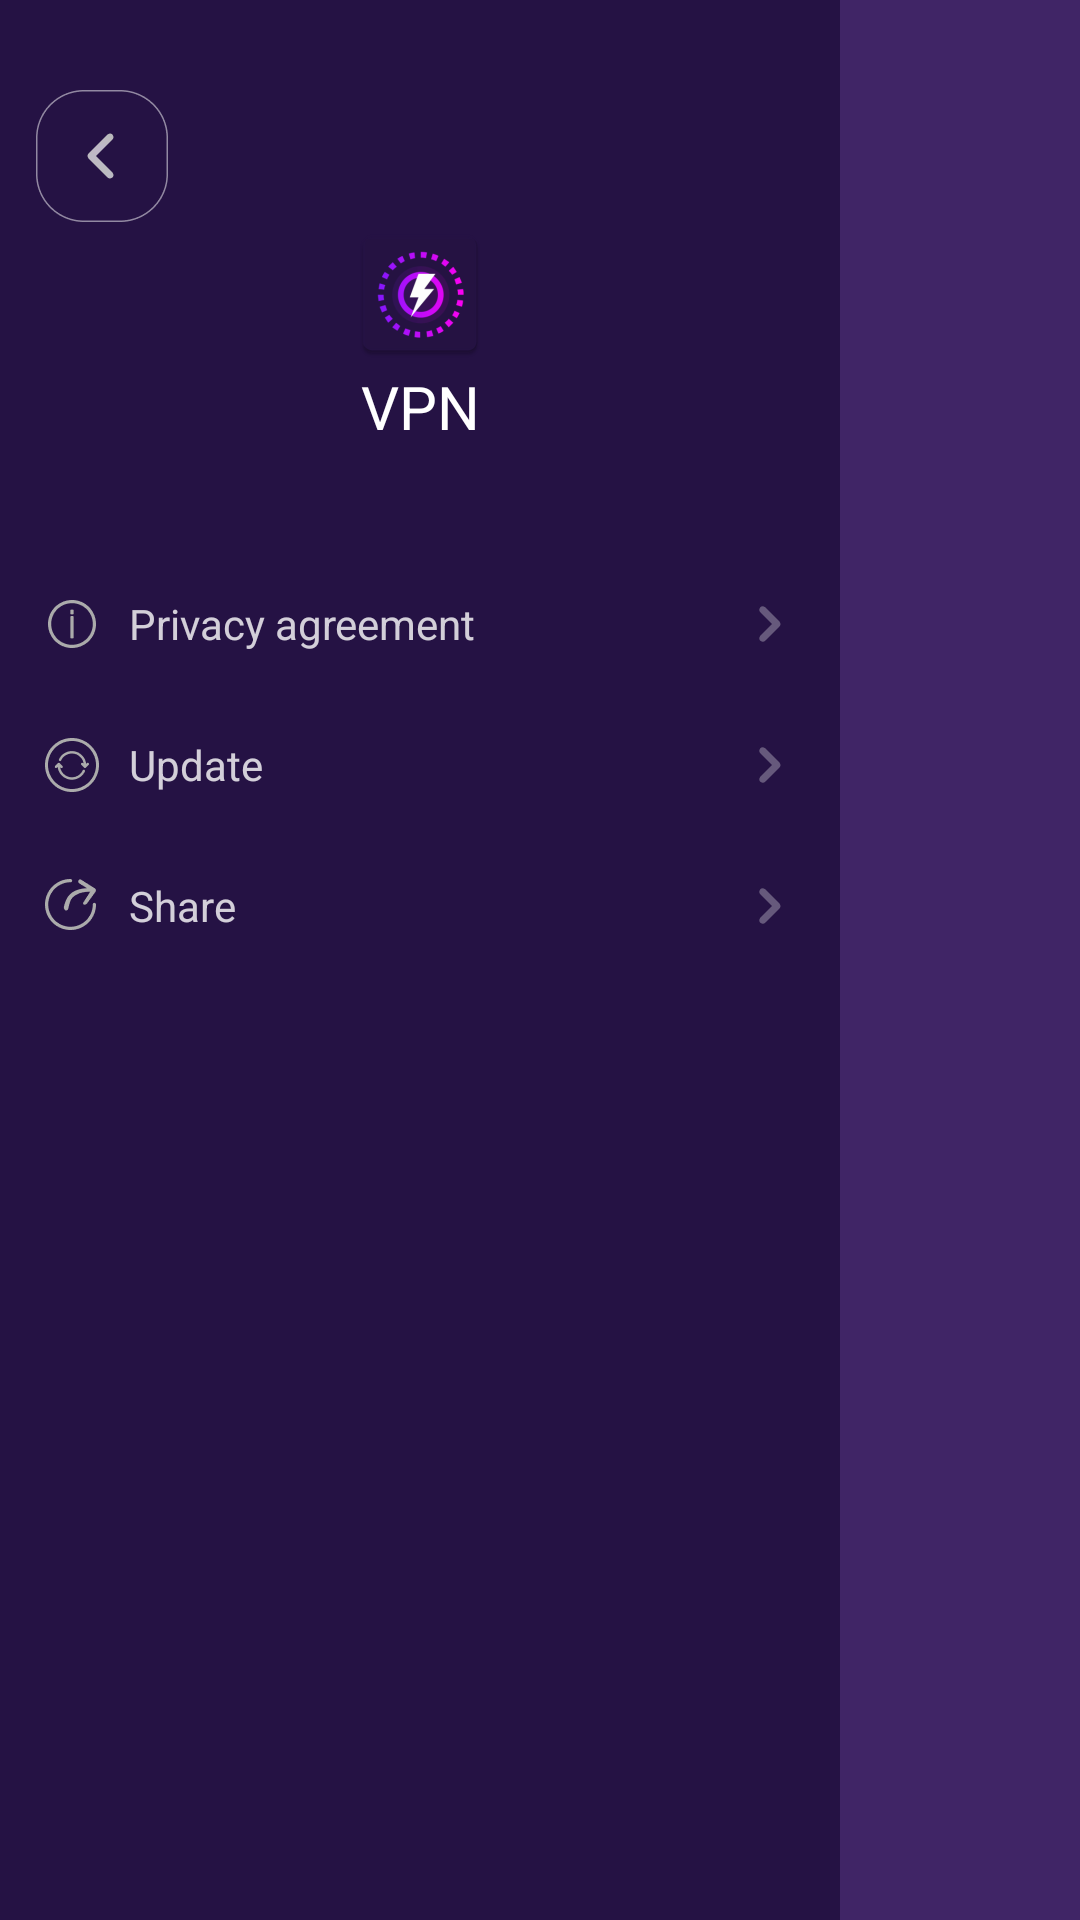

Icon click points for this 1080×1920 phone screenshot, format (x,y):
title back dyna: (102,156)
